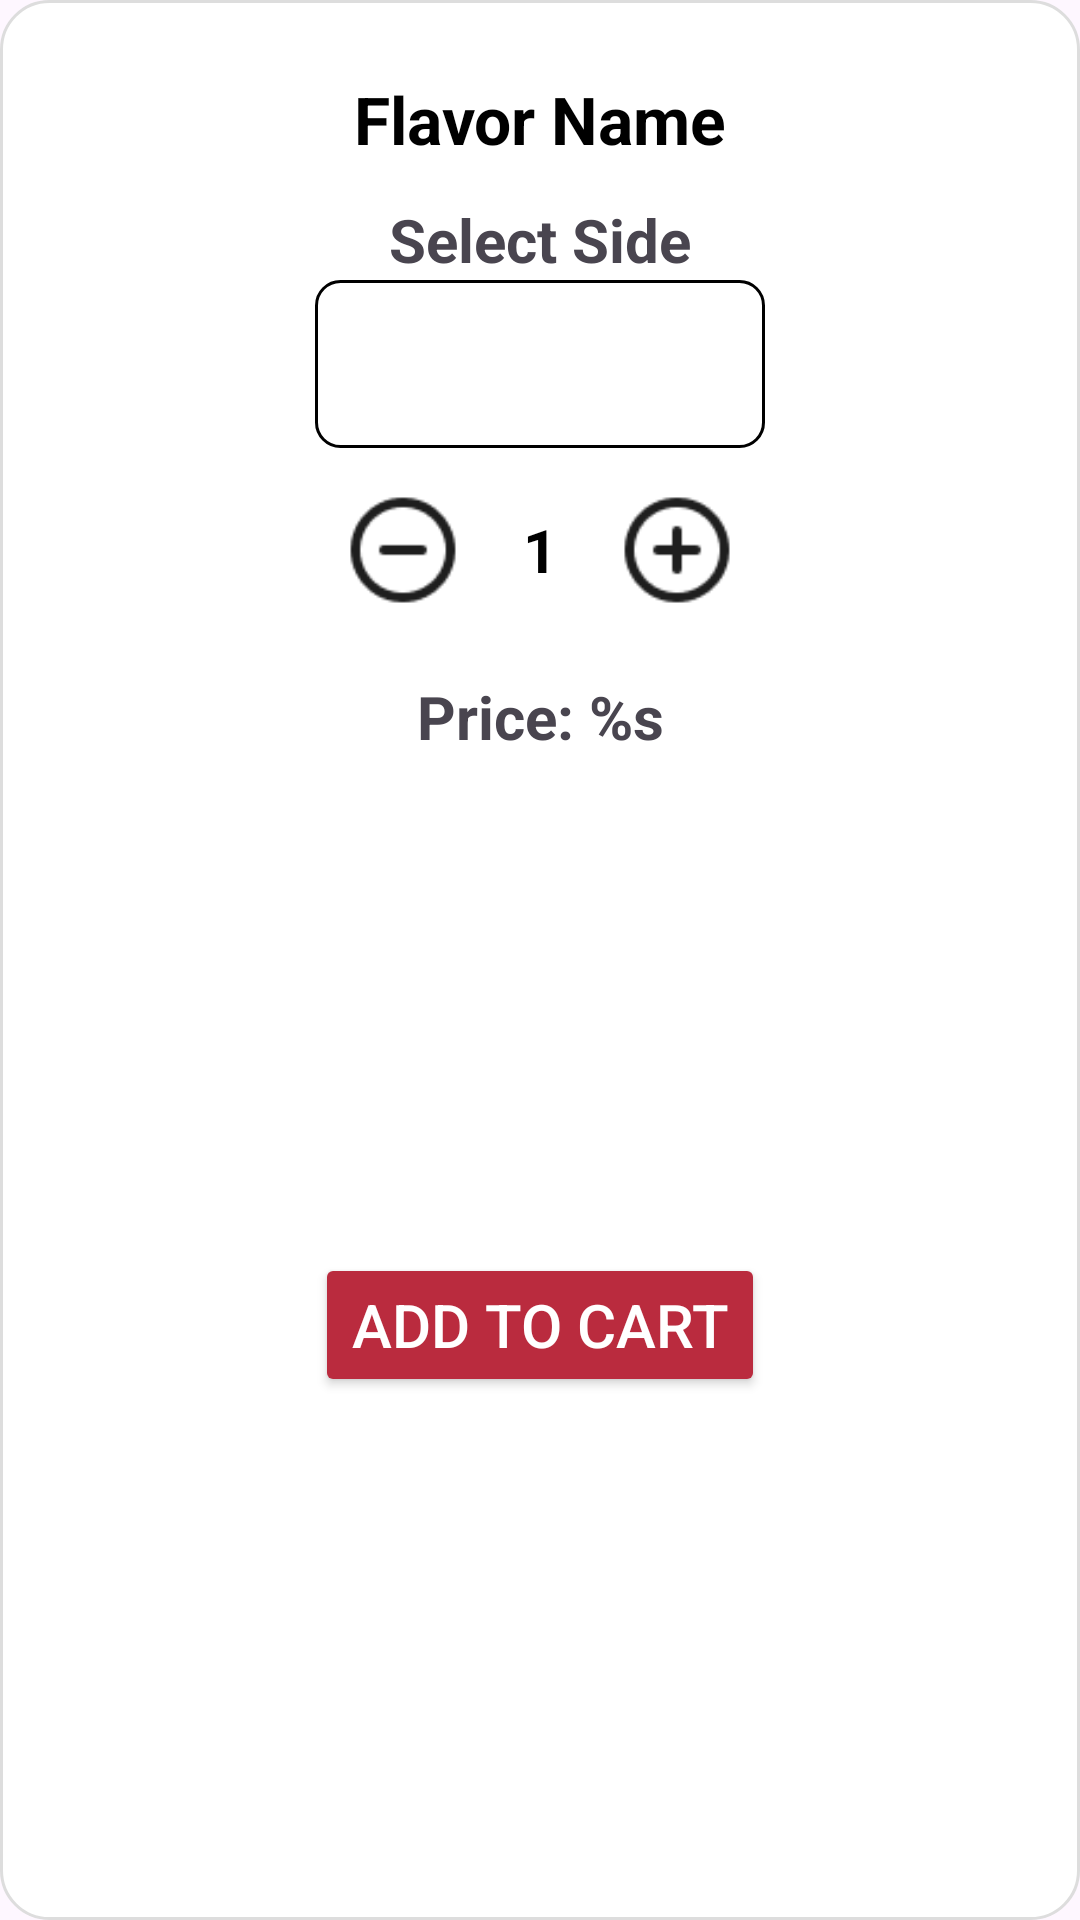

Named icons in this screenshot (1080*1920) and their centers, (x=x, y=y):
increase quantity: (x=677, y=550)
minus: (x=403, y=550)
